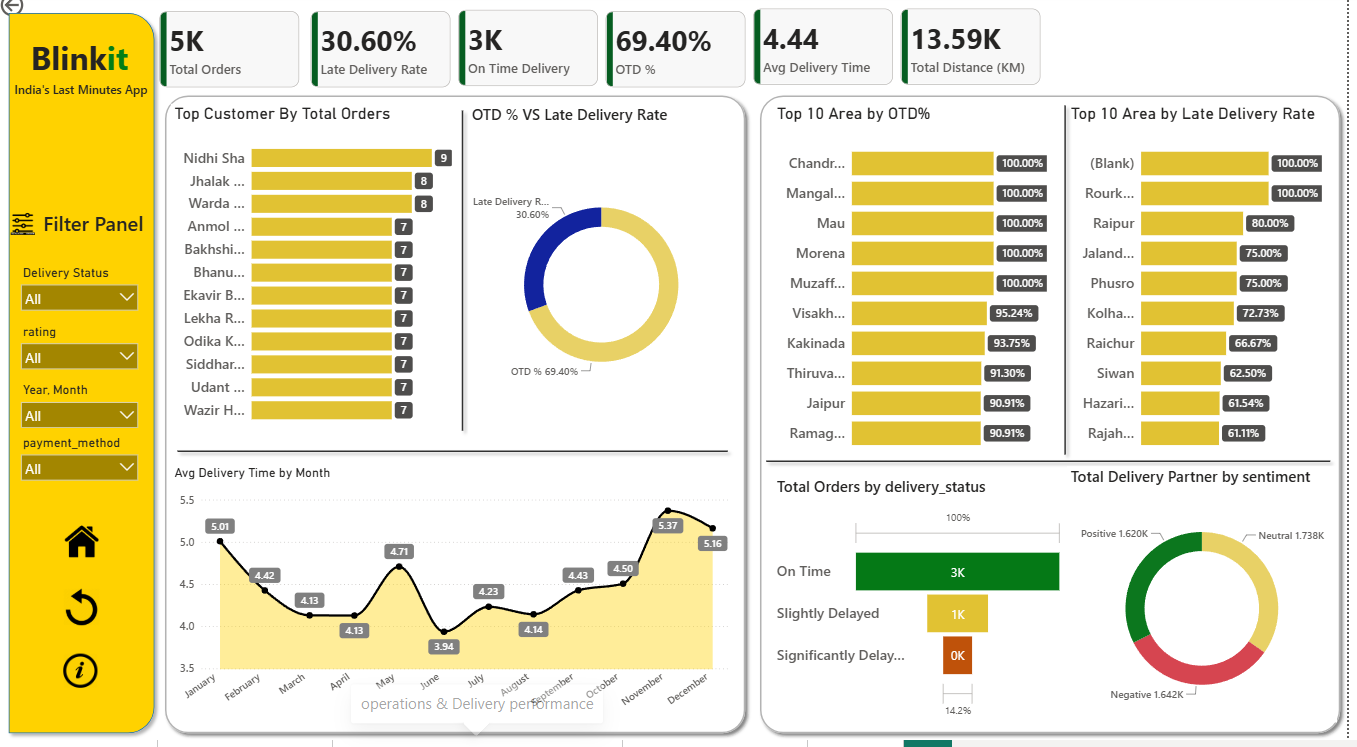

The page's visual inventory and layout, read from the dashboard file:
{"tool":"powerbi","page":{"name":"operations & Delivery performance","canvas":[1800,1000],"ordinal":2},"visuals":[{"type":"actionButton","box":[0,0,100,40],"z":0},{"type":"cardVisual","fields":{"Data":["All Measures.Total Orders"]},"box":[211.7,23.3,196.7,111.7],"z":1000},{"type":"cardVisual","fields":{"Data":["All Measures.OTD %"]},"box":[806.7,23.3,196.7,111.7],"z":2000},{"type":"cardVisual","fields":{"Data":["All Measures.Avg Delivery Time"]},"box":[1003.3,20,196.7,111.7],"z":3000},{"type":"cardVisual","fields":{"Data":["All Measures.On Time Delivery"]},"box":[610,21.7,196.7,111.7],"z":4000},{"type":"cardVisual","fields":{"Data":["All Measures.Late Delivery Rate"]},"box":[413.3,23.3,196.7,111.7],"z":5000},{"type":"cardVisual","fields":{"Data":["All Measures.Total Distance (KM)"]},"box":[1200,20,196.7,111.7],"z":6000},{"type":"shape","box":[6.7,21.7,212.3,978.3],"z":7000},{"type":"textbox","box":[28.3,55,163.3,76.7],"z":8000},{"type":"shape","box":[215,131.7,791.7,868.3],"z":9000},{"type":"barChart","title":"Top Customer By Total Orders","fields":{"Category":["blinkit_customers.customer_name"],"Y":["All Measures.Total Orders"]},"box":[231.7,151.7,380,438.3],"z":10000},{"type":"areaChart","fields":{"Category":["blinkit_orders.order_date.Variation.Date Hierarchy.Year","blinkit_orders.order_date.Variation.Date Hierarchy.Quarter","blinkit_orders.order_date.Variation.Date Hierarchy.Month","blinkit_orders.order_date.Variation.Date Hierarchy.Day"],"Y":["All Measures.Avg Delivery Time"]},"box":[231.7,633.3,751.7,343.3],"z":11000},{"type":"donutChart","title":"OTD % VS Late Delivery Rate","fields":{"Y":["All Measures.OTD %","All Measures.Late Delivery Rate"]},"box":[628.3,151.7,355,445],"z":12000},{"type":"shape","box":[231.7,596.7,751.7,36.7],"z":13000},{"type":"shape","box":[611.7,151.7,16.7,445],"z":14000},{"type":"shape","box":[1016.7,611.7,770,36.7],"z":15000},{"type":"shape","box":[1008.3,131.7,791.7,868.3],"z":16000},{"type":"barChart","title":"Top 10 Area by OTD%","fields":{"Category":["blinkit_customers.area"],"Y":["All Measures.OTD %"]},"box":[1035,151.7,370,476.7],"z":17000},{"type":"funnel","fields":{"Category":["blinkit_delivery_performance.delivery_status"],"Y":["All Measures.Total Orders"]},"box":[1035,648.3,391.7,328.3],"z":18000},{"type":"barChart","title":"Top 10 Area by Late Delivery Rate","fields":{"Category":["blinkit_customers.area"],"Y":["All Measures.Late Delivery Rate"]},"box":[1426.7,151.7,345,476.7],"z":19000},{"type":"shape","box":[1405,145,38.3,483.3],"z":20000},{"type":"shape","box":[1016.7,610,770,36.7],"z":21000},{"type":"image","box":[75.6,697.6,75.6,73.8],"z":22000},{"type":"image","box":[88.3,794.3,49.2,54.8],"z":23000},{"type":"image","box":[88.3,880.4,45.4,54.8],"z":24000},{"type":"slicer","fields":{"Values":["blinkit_orders.delivery_status"]},"box":[21.7,361.7,176.7,78.3],"z":25000},{"type":"slicer","fields":{"Values":["blinkit_customer_feedback.rating"]},"box":[21.7,440,176.7,78.3],"z":26000},{"type":"slicer","fields":{"Values":["blinkit_orders.order_date.Variation.Date Hierarchy.Year","blinkit_orders.order_date.Variation.Date Hierarchy.Month"]},"box":[21.7,518.3,176.7,78.3],"z":27000},{"type":"slicer","fields":{"Values":["blinkit_orders.payment_method"]},"box":[21.7,588.3,176.7,78.3],"z":28000},{"type":"image","box":[18.3,281.7,31.7,58.3],"z":29000},{"type":"textbox","box":[56.7,288.3,155,51.7],"z":30000},{"type":"textbox","box":[18.3,116.7,188.3,36.7],"z":31000},{"type":"donutChart","fields":{"Category":["blinkit_customer_feedback.sentiment"],"Y":["All Measures.Total Delivery Partner"]},"box":[1426.7,635,360,341.7],"z":32000}]}

Visuals, with their boxes in screenshot pixels (x1, y1, x2, y2), scaled from the page's 1800x1000 canvas onto the 1357x747 screenshot:
actionButton: l=0, t=0, r=75, b=30
cardVisual - All Measures.Total Orders: l=160, t=17, r=308, b=101
cardVisual - All Measures.OTD %: l=608, t=17, r=756, b=101
cardVisual - All Measures.Avg Delivery Time: l=756, t=15, r=905, b=98
cardVisual - All Measures.On Time Delivery: l=460, t=16, r=608, b=100
cardVisual - All Measures.Late Delivery Rate: l=312, t=17, r=460, b=101
cardVisual - All Measures.Total Distance (KM): l=905, t=15, r=1053, b=98
shape: l=5, t=16, r=165, b=746
textbox: l=21, t=41, r=144, b=98
shape: l=162, t=98, r=759, b=746
"Top Customer By Total Orders" barChart: l=175, t=113, r=461, b=441
areaChart - blinkit_orders.order_date.Variation.Date Hierarchy.Year x blinkit_orders.order_date.Variation.Date Hierarchy.Quarter: l=175, t=473, r=741, b=730
"OTD % VS Late Delivery Rate" donutChart: l=474, t=113, r=741, b=446
shape: l=175, t=446, r=741, b=473
shape: l=461, t=113, r=474, b=446
shape: l=766, t=457, r=1347, b=484
shape: l=760, t=98, r=1356, b=746
"Top 10 Area by OTD%" barChart: l=780, t=113, r=1059, b=469
funnel - blinkit_delivery_performance.delivery_status x All Measures.Total Orders: l=780, t=484, r=1076, b=730
"Top 10 Area by Late Delivery Rate" barChart: l=1076, t=113, r=1336, b=469
shape: l=1059, t=108, r=1088, b=469
shape: l=766, t=456, r=1347, b=483
image: l=57, t=521, r=114, b=576
image: l=67, t=593, r=104, b=634
image: l=67, t=658, r=101, b=699
slicer - blinkit_orders.delivery_status: l=16, t=270, r=150, b=329
slicer - blinkit_customer_feedback.rating: l=16, t=329, r=150, b=387
slicer - blinkit_orders.order_date.Variation.Date Hierarchy.Year x blinkit_orders.order_date.Variation.Date Hierarchy.Month: l=16, t=387, r=150, b=446
slicer - blinkit_orders.payment_method: l=16, t=439, r=150, b=498
image: l=14, t=210, r=38, b=254
textbox: l=43, t=215, r=160, b=254
textbox: l=14, t=87, r=156, b=115
donutChart - blinkit_customer_feedback.sentiment x All Measures.Total Delivery Partner: l=1076, t=474, r=1347, b=730
